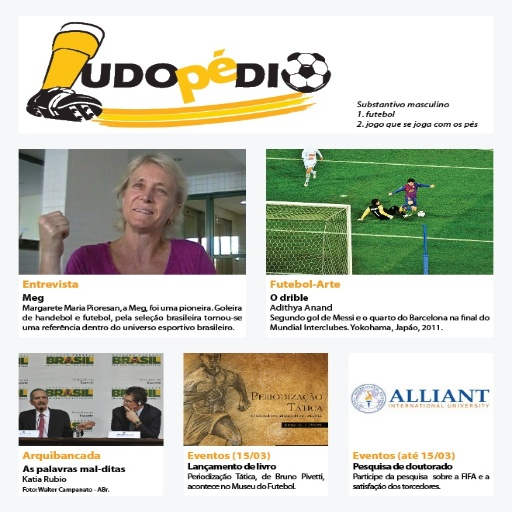hand: (26, 192, 68, 255), (200, 386, 221, 402), (124, 404, 138, 423), (76, 418, 96, 431), (235, 398, 251, 411)
